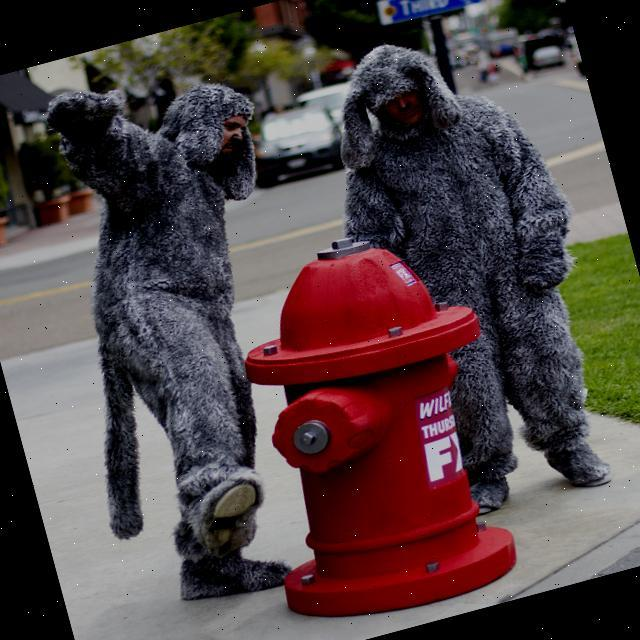fire_hydrant: (193, 208, 549, 640)
